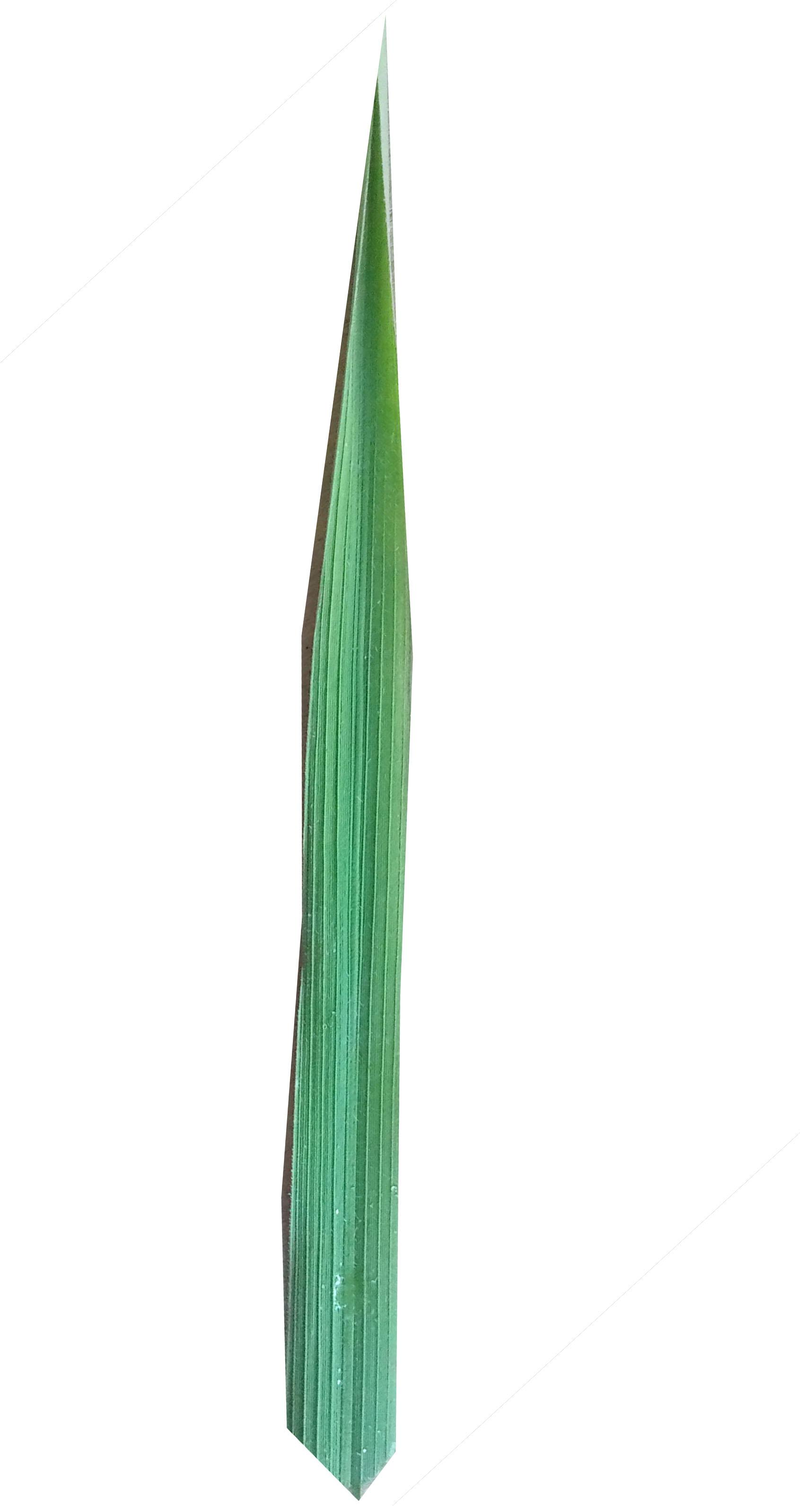Healthy: (281, 19, 414, 1504)
